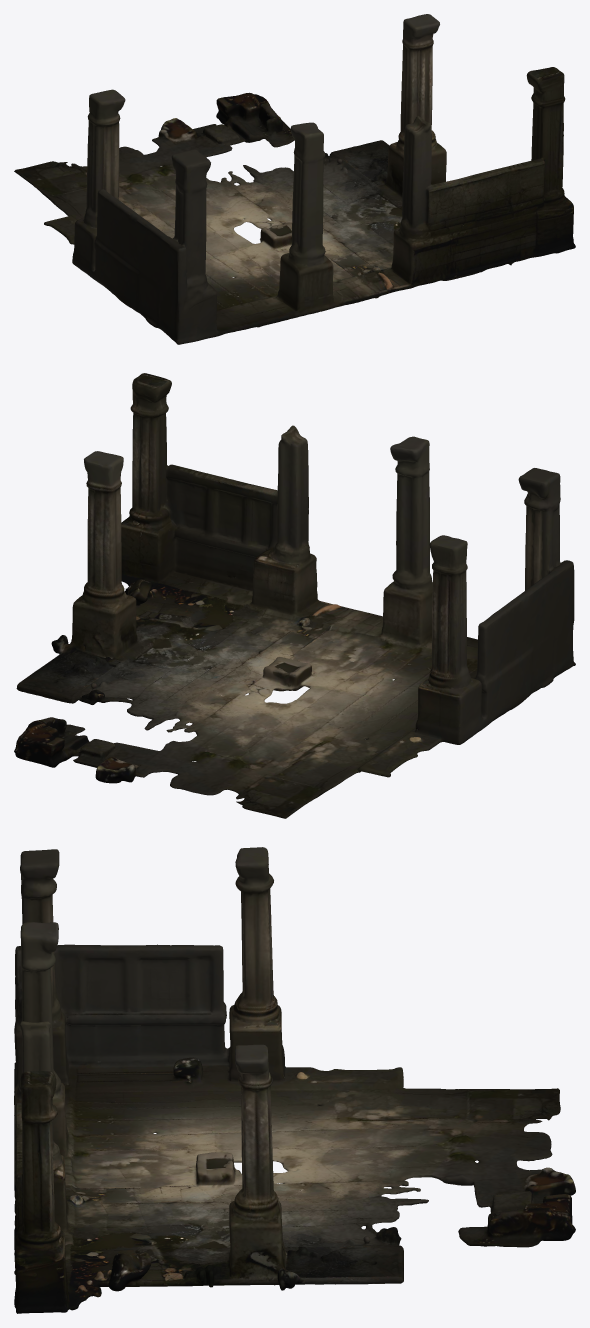
Rendered from principalFloor.fbx.
3 views of the same model, one above another, from view 1: azimuth 30°, elevation 25°; view 2: azimuth 150°, elevation 25°; view 3: azimuth 270°, elevation 25° (orthographic). The views are drawn at different scales.
Parts seen in each view (by area): view 1: tripo_node_fc24b0d4; view 2: tripo_node_fc24b0d4; view 3: tripo_node_fc24b0d4.
Boxes of the visible parts, box(x1,y1,x2,y2) form: tripo_node_fc24b0d4: box(14, 14, 575, 344); tripo_node_fc24b0d4: box(14, 373, 575, 818); tripo_node_fc24b0d4: box(14, 847, 575, 1313).
Size of the model in its own units: 0.9999 by 0.4298 by 0.9511.
1 material, 1 textured.
